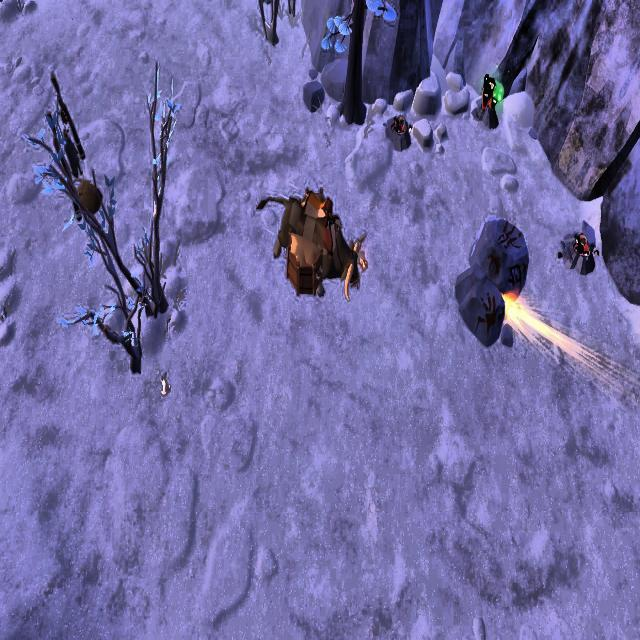ore_t5: (481, 71, 497, 113)
